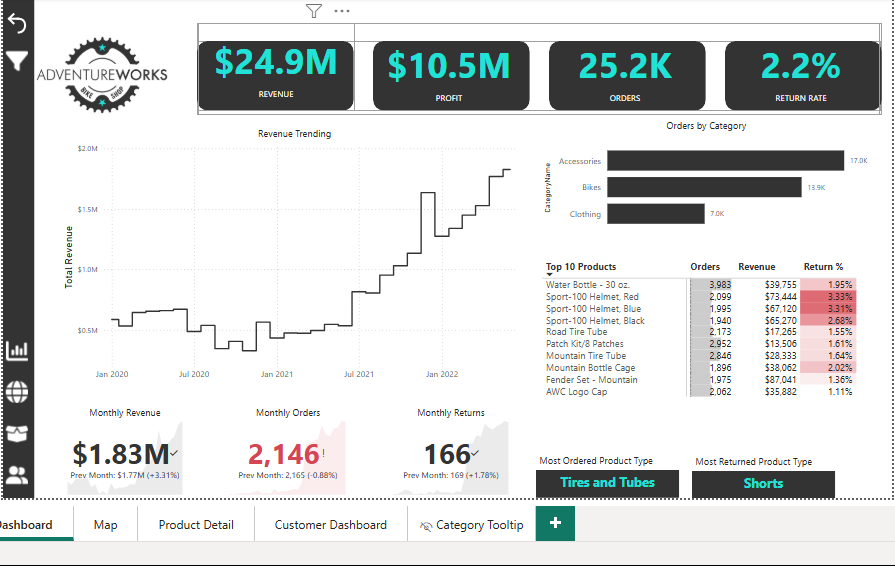

What the dashboard file says about the page in this screenshot:
{"tool":"powerbi","page":{"name":"Exec Dashboard","canvas":[1280,720],"ordinal":0},"visuals":[{"type":"cardVisual","title":"Revenue Card","fields":{"Data":["Measure Table.Total Revenue"]},"box":[281.4,35.7,225.7,127.1],"z":0,"group":"g2"},{"type":"image","title":"Logo","box":[22.9,47.1,240,127.1],"z":0},{"type":"group","id":"g1","title":"KPI Background","box":[280,61.4,985.5,100.6],"z":0,"group":"g3"},{"type":"shape","box":[280,61.4,225.7,100],"z":0,"group":"g1"},{"type":"actionButton","box":[0,488.2,44.6,40.3],"z":0,"group":"g4"},{"type":"shape","title":"Left Nav Background","box":[0,0,45,720],"z":1000},{"type":"group","id":"g2","title":"KPI Values","box":[281.4,35.7,981.4,132.9],"z":1000,"group":"g3"},{"type":"cardVisual","title":"Profit Card","fields":{"Data":["Measure Table.Total Profit"]},"box":[530.4,41.6,225.7,127.1],"z":1000,"group":"g2"},{"type":"shape","box":[786.4,62,225.9,100],"z":1000,"group":"g1"},{"type":"actionButton","box":[0,607.2,44.6,40.3],"z":1000,"group":"g4"},{"type":"group","id":"g3","title":"KPIs","box":[280,35.7,985.5,132.9],"z":2000},{"type":"cardVisual","title":"Orders Card","fields":{"Data":["Measure Table.Total Orders"]},"box":[783.8,41.6,225.7,127.1],"z":2000,"group":"g2"},{"type":"shape","box":[533.1,62,225.9,100],"z":2000,"group":"g1"},{"type":"actionButton","box":[0,666.8,44.6,40.3],"z":2000,"group":"g4"},{"type":"cardVisual","title":"Return Rate Card","fields":{"Data":["Measure Table.Return Rate"]},"box":[1037.1,41.6,225.7,127.1],"z":3000,"group":"g2"},{"type":"shape","box":[1039.7,62,225.9,100],"z":3000,"group":"g1"},{"type":"lineChart","title":"Revenue Trending","fields":{"Y":["Measure Table.Total Revenue"],"Category":["Calendar Lookup.Year","Calendar Lookup.Start of Quarter","Calendar Lookup.Start of Month"]},"box":[80,185.7,678.6,374.3],"z":3000},{"type":"actionButton","box":[0,547.7,44.6,40.3],"z":3000,"group":"g4"},{"type":"kpi","title":"Monthly Revenue","fields":{"Indicator":["Measure Table.Total Revenue"],"TrendLine":["Calendar Lookup.Start of Month"],"Goal":["Measure Table.Previous Month Revenue"]},"box":[87.1,587.1,175.7,132.9],"z":4000},{"type":"kpi","title":"Monthly Orders","fields":{"TrendLine":["Calendar Lookup.Start of Month"],"Indicator":["Measure Table.Total Orders"],"Goal":["Measure Table.Previous Month Orders"]},"box":[322.1,587.1,175.7,132.9],"z":5000},{"type":"kpi","title":"Monthly Returns","fields":{"TrendLine":["Calendar Lookup.Start of Month"],"Indicator":["Measure Table.Total Returns"],"Goal":["Measure Table.Previous Month Returns"]},"box":[557.1,587.1,175.7,132.9],"z":6000},{"type":"clusteredBarChart","title":"Orders by Category","fields":{"Category":["Product Categories Lookup.CategoryName"],"Y":["Measure Table.Total Orders"]},"box":[772.8,174.1,479,172.8],"z":7000},{"type":"pivotTable","fields":{"Rows":["Product Lookup.ProductName"],"Values":["Measure Table.Total Orders","Measure Table.Total Revenue","Measure Table.Return Rate"]},"box":[771.6,372.8,469.1,261.7],"z":8000},{"type":"card","fields":{"Values":["Min(Product Subcategories Lookup.SubcategoryName)"]},"box":[767.9,679.5,206.2,39.5],"z":9000},{"type":"textbox","box":[767.9,652.3,186.4,27.2],"z":10000},{"type":"card","fields":{"Values":["Min(Product Subcategories Lookup.SubcategoryName)"]},"box":[991.5,680.8,206.2,39.5],"z":11000},{"type":"textbox","box":[991.5,653.7,186.4,27.2],"z":12000},{"type":"actionButton","box":[0,15.8,44.6,40.3],"z":13000},{"type":"group","id":"g4","title":"Navigation Buttons","box":[0,488.2,44.6,218.9],"z":14000},{"type":"actionButton","box":[0,70.6,44.6,40.3],"z":15000}]}

Visuals, with their boxes on the page's 1280x720 design canvas (x1, y1, x2, y2). These are canvas units, not pixel positions in the 895x566 screenshot, which may show the page scaled, cropped or inside an application window:
"Revenue Card" cardVisual: x1=281 y1=36 x2=507 y2=163
"Logo" image: x1=23 y1=47 x2=263 y2=174
"KPI Background" group: x1=280 y1=61 x2=1266 y2=162
shape: x1=280 y1=61 x2=506 y2=161
actionButton: x1=0 y1=488 x2=45 y2=528
"Left Nav Background" shape: x1=0 y1=0 x2=45 y2=720
"KPI Values" group: x1=281 y1=36 x2=1263 y2=169
"Profit Card" cardVisual: x1=530 y1=42 x2=756 y2=169
shape: x1=786 y1=62 x2=1012 y2=162
actionButton: x1=0 y1=607 x2=45 y2=648
"KPIs" group: x1=280 y1=36 x2=1266 y2=169
"Orders Card" cardVisual: x1=784 y1=42 x2=1010 y2=169
shape: x1=533 y1=62 x2=759 y2=162
actionButton: x1=0 y1=667 x2=45 y2=707
"Return Rate Card" cardVisual: x1=1037 y1=42 x2=1263 y2=169
shape: x1=1040 y1=62 x2=1266 y2=162
"Revenue Trending" lineChart: x1=80 y1=186 x2=759 y2=560
actionButton: x1=0 y1=548 x2=45 y2=588
"Monthly Revenue" kpi: x1=87 y1=587 x2=263 y2=720
"Monthly Orders" kpi: x1=322 y1=587 x2=498 y2=720
"Monthly Returns" kpi: x1=557 y1=587 x2=733 y2=720
"Orders by Category" clusteredBarChart: x1=773 y1=174 x2=1252 y2=347
pivotTable - Product Lookup.ProductName x Measure Table.Total Orders: x1=772 y1=373 x2=1241 y2=634
card - Min(Product Subcategories Lookup.SubcategoryName): x1=768 y1=680 x2=974 y2=719
textbox: x1=768 y1=652 x2=954 y2=680
card - Min(Product Subcategories Lookup.SubcategoryName): x1=992 y1=681 x2=1198 y2=720
textbox: x1=992 y1=654 x2=1178 y2=681
actionButton: x1=0 y1=16 x2=45 y2=56
"Navigation Buttons" group: x1=0 y1=488 x2=45 y2=707
actionButton: x1=0 y1=71 x2=45 y2=111
